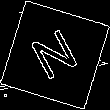N_SE: (26, 23, 84, 87)
